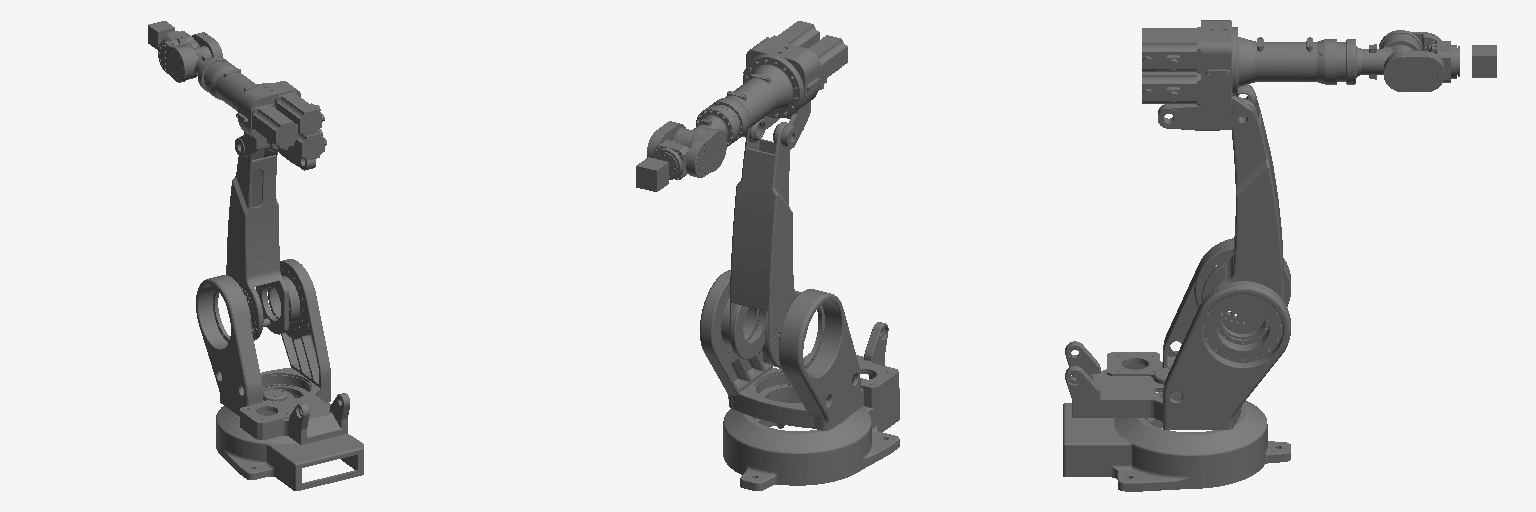
robot.urdf — x50:
<?xml version="1.0"?>
<robot name="x50">

	<material name="white">
		<color rgba="0.5 0.5 0.5 1"/>
	</material>

	<link name="root">
		<visual>
			<geometry>
				<mesh filename="package://x50_description/meshes/RBase.stl" scale="0.001 0.001 0.001"/>
			</geometry>
			<origin rpy="0 0 0" xyz="0 0 0"/>
			<material name="white" />
		</visual>
		<collision>
			<geometry>
				<mesh filename="package://x50_description/meshes/RBase.stl" scale="0.001 0.001 0.001"/>
			</geometry>
			<origin rpy="0 0 0" xyz="0 0 0"/>
		</collision>
	</link>

	<link name="link1">
		<visual>
			<geometry>
				<mesh filename="package://x50_description/meshes/RLink1.stl" scale="0.001 0.001 0.001"/>
			</geometry>
			<origin rpy="0 0 0" xyz="0 0 0"/>
			<material name="white" />
		</visual>
		<collision>
			<geometry>
				<mesh filename="package://x50_description/meshes/RLink1.stl" scale="0.001 0.001 0.001"/>
			</geometry>
			<origin rpy="0 0 0" xyz="0 0 0"/>
		</collision>
	</link>

	<link name="link2">
		<visual>
			<geometry>
				<mesh filename="package://x50_description/meshes/RLink2.stl" scale="0.001 0.001 0.001"/>
			</geometry>
			<origin rpy="0 0 0" xyz="0 0 0"/>
			<material name="white" />
		</visual>
		<collision>
			<geometry>
				<mesh filename="package://x50_description/meshes/RLink2.stl" scale="0.001 0.001 0.001"/>
			</geometry>
			<origin rpy="0 0 0" xyz="0 0 0"/>
		</collision>
	</link>

	<link name="link3">
		<visual>
			<geometry>
				<mesh filename="package://x50_description/meshes/RLink3.stl" scale="0.001 0.001 0.001"/>
			</geometry>
			<origin rpy="0 0 0" xyz="0 0 0"/>
			<material name="white" />
		</visual>
		<collision>
			<geometry>
				<mesh filename="package://x50_description/meshes/RLink3.stl" scale="0.001 0.001 0.001"/>
			</geometry>
			<origin rpy="0 0 0" xyz="0 0 0"/>
		</collision>
	</link>

	<link name="link4">
		<visual>
			<geometry>
				<mesh filename="package://x50_description/meshes/RLink4.stl" scale="0.001 0.001 0.001"/>
			</geometry>
			<origin rpy="0 0 0" xyz="0 0 0"/>
			<material name="white" />
		</visual>
		<collision>
			<geometry>
				<mesh filename="package://x50_description/meshes/RLink4.stl" scale="0.001 0.001 0.001"/>
			</geometry>
			<origin rpy="0 0 0" xyz="0 0 0"/>
		</collision>
	</link>

	<link name="link5">
		<visual>
			<geometry>
				<mesh filename="package://x50_description/meshes/RLink5.stl" scale="0.001 0.001 0.001"/>
			</geometry>
			<origin rpy="0 0 0" xyz="0 0 0"/>
			<material name="white" />
		</visual>
		<collision>
			<geometry>
				<mesh filename="package://x50_description/meshes/RLink5.stl" scale="0.001 0.001 0.001"/>
			</geometry>
			<origin rpy="0 0 0" xyz="0 0 0"/>
		</collision>
	</link>

	<link name="link6">
	</link>

	<link name="tool">
		<visual>
			<geometry>
				<box size="0.1 0.1 0.1"/>
			</geometry>
			<origin rpy="0 0 0" xyz="0 0 0"/>
			<material name="white" />
		</visual>
		<collision>
			<geometry>
				<box size="0.1 0.1 0.1"/>
			</geometry>
			<origin rpy="0 0 0" xyz="0 0 0"/>
		</collision>
	</link>

	<joint name="joint_1" type="revolute">
		<parent link="root"/>
		<child link="link1"/>
		<origin xyz="0 0 0.23" rpy="0 0 0" />
		<axis xyz="0 0 1" />
		<limit effort="2548.0" velocity="0.261799383" lower="-1.5707963" upper="1.5707963" />
	</joint>

	<joint name="joint_2" type="revolute">
		<parent link="link1"/>
		<child link="link2"/>
		<origin xyz="0 0.200 0.449" rpy="0 0 0" />
		<axis xyz="1 0 0" />
		<limit effort="3136.0" velocity="0.261799383" lower="-1.047197533" upper="1.047197533" />
	</joint>

	<joint name="joint_3" type="revolute">
		<parent link="link2"/>
		<child link="link3"/>
		<origin xyz="0 0 0.890" rpy="0 0 0" />
		<axis xyz="1 0 0" />
		<limit effort="1225.0" velocity="0.261799383" lower="-1.047197533" upper="1.047197533" />
	</joint>

	<joint name="joint_4" type="revolute">
		<parent link="link3"/>
		<child link="link4"/>
		<origin xyz="0 0.4369 0.195" rpy="0 0 0" />
		<axis xyz="0 -1 0" />
		<limit effort="588.0" velocity="2.617993833" lower="-6.2832" upper="6.2832" />
	</joint>

	<joint name="joint_5" type="revolute">
		<parent link="link4"/>
		<child link="link5"/>
		<origin xyz="0 0.1995 0" rpy="0 0 0" />
		<axis xyz="1 0 0" />
		<limit effort="412.0" velocity="0.261799383" lower="-1.5707963" upper="1.5707963" />
	</joint>

	<joint name="joint_6" type="revolute">
		<parent link="link5"/>
		<child link="link6"/>
		<origin xyz="0 0.238 0" rpy="0 0 0" />
		<axis xyz="0 -1 0" />
		<limit effort="343.0" velocity="2.617993833" lower="-6.2832" upper="6.2832" />
	</joint>

	<joint name="jointT" type="fixed">
		<parent link="link6"/>
		<child link="tool"/>
		<origin xyz="0 0.1 0" rpy="0 0 0" />
	</joint>

</robot>

--- Facts derived from the render (not from the file) ---
3 views of the same robot in one strip: view 1: azimuth 30°, elevation 25°; view 2: azimuth 150°, elevation 25°; view 3: azimuth 270°, elevation 25° (orthographic).
Model x50 with 8 links and 7 joints (6 revolute, 1 fixed), rooted at root, posed all joints at 0.
Links seen in each view (by area): view 1: link1, link2, link3, root, link5, link4; view 2: link1, link2, root, link3, link5, link4, tool; view 3: link1, link3, root, link2, link5, link4, tool.
Link boxes in pixels (box(x1,y1,x2,y2)): link1: box(196, 259, 349, 444); link2: box(226, 146, 288, 340); link3: box(200, 58, 326, 170); root: box(216, 393, 363, 490); link5: box(158, 31, 222, 82); link4: box(179, 45, 225, 86); link1: box(700, 270, 898, 430); link2: box(730, 119, 807, 367); root: box(723, 378, 899, 490); link3: box(706, 21, 847, 148); link5: box(647, 121, 726, 179); link4: box(674, 107, 735, 147); tool: box(636, 157, 668, 191); link1: box(1065, 238, 1290, 429); link3: box(1142, 20, 1350, 130); root: box(1063, 392, 1290, 491); link2: box(1202, 86, 1283, 340); link5: box(1379, 30, 1459, 91); link4: box(1351, 34, 1421, 84); tool: box(1472, 45, 1496, 77).
Size in the robot's own frame: 0.67 by 1.75 by 1.9 metres.
Meshes: 6 distinct files referenced, 6 mesh visuals loaded (6 binary STL).